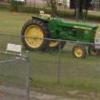Tractor: (16, 5, 100, 59)
